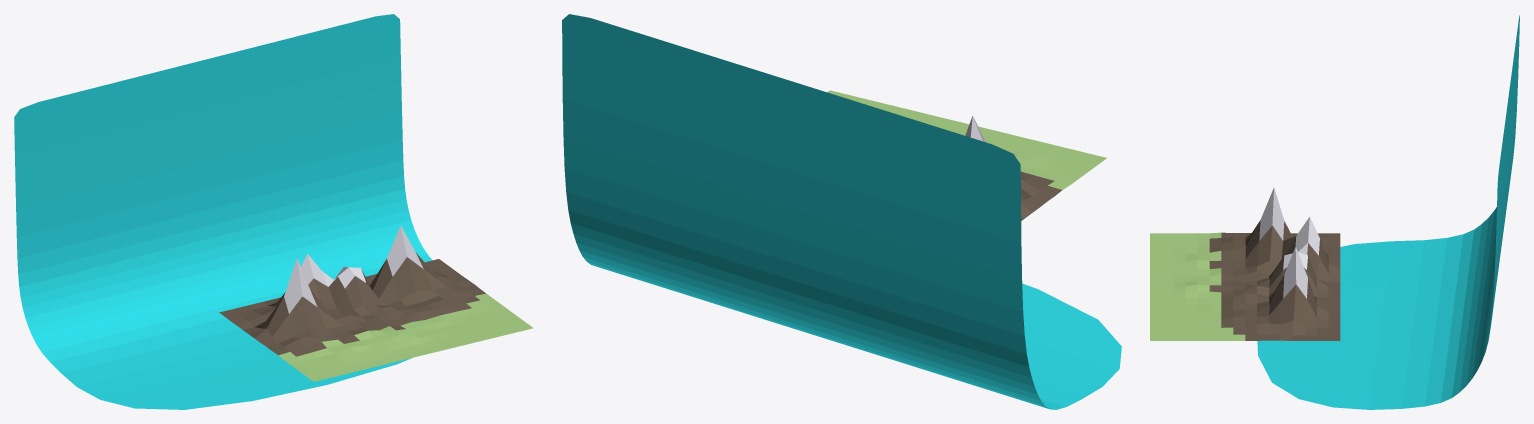
The model's file is lowpolymountains.fbx.
3 views of the same model, side by side, from view 1: azimuth 30°, elevation 25°; view 2: azimuth 150°, elevation 25°; view 3: azimuth 270°, elevation 25° (orthographic). The views are drawn at different scales.
Parts seen in each view (by area): view 1: Plane, Sahne; view 2: Plane, Sahne; view 3: Plane, Sahne.
Part boxes in pixels (x1,y1,x2,y2): Plane: (14,14,432,409); Sahne: (219,225,533,381); Plane: (562,14,1121,409); Sahne: (827,90,1106,220); Plane: (1257,15,1519,409); Sahne: (1150,187,1340,340).
Size of the model in its own units: 3638 by 2272 by 3083.
